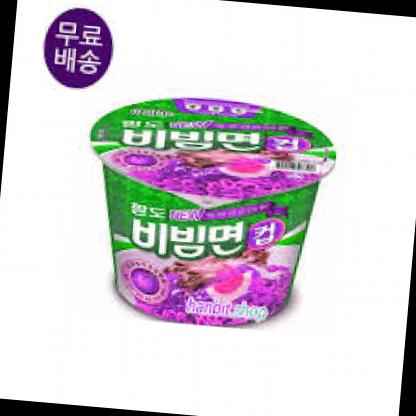Ramen: (71, 86, 339, 340)
